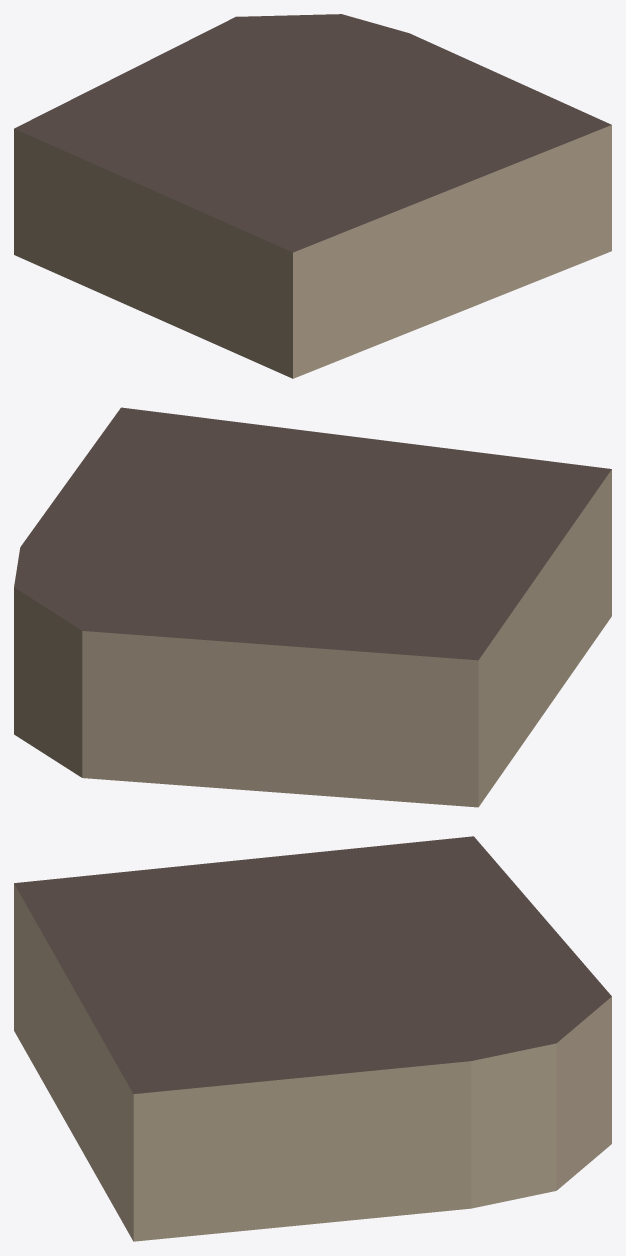
3 renders of one model, top to bottom at view 1: azimuth 30°, elevation 25°; view 2: azimuth 150°, elevation 25°; view 3: azimuth 270°, elevation 25°, orthographic. The views are drawn at different scales.
Parts seen in each view (by area): view 1: HP-w142741937; view 2: HP-w142741937; view 3: HP-w142741937.
Part boxes in pixels (<box>): HP-w142741937: <box>14,14,611,378</box>; HP-w142741937: <box>14,407,611,807</box>; HP-w142741937: <box>14,836,611,1241</box>.
Bounding box in the file's own units: 33.74 × 9 × 33.06.
